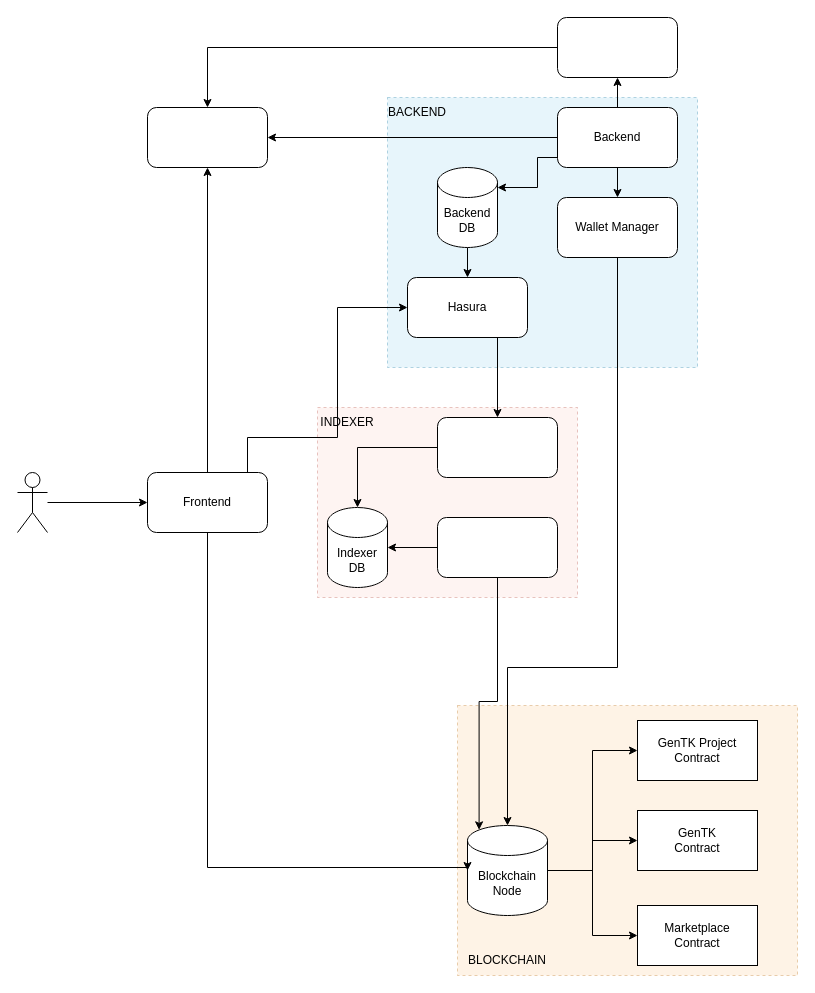
Some shapes in this 815 by 993 pixel diagram are drawn without their labels. The shapes that lost their labels are listed below. From the top down, each one's centre as x and y in pixels, then its label:
[617,47]: Rendering Pipeline
[207,137]: Decentralized Media Cluster
[497,447]: Subsquid GQL API
[32,502]: User
[497,547]: Subsquid Indexer
